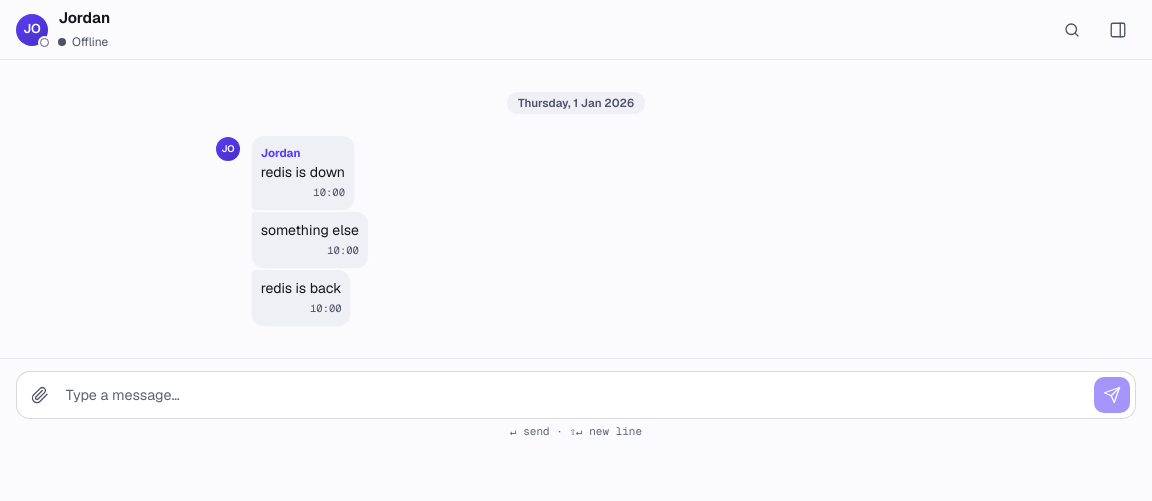
Test case: ConversationRoom — searching this conversation › shows the newest match first, ringed, with the words marked, and keeps the caret in the field
Step 1. Click the button named "Search this conversation" → point(1072, 30), box [1054,12,1090,48]
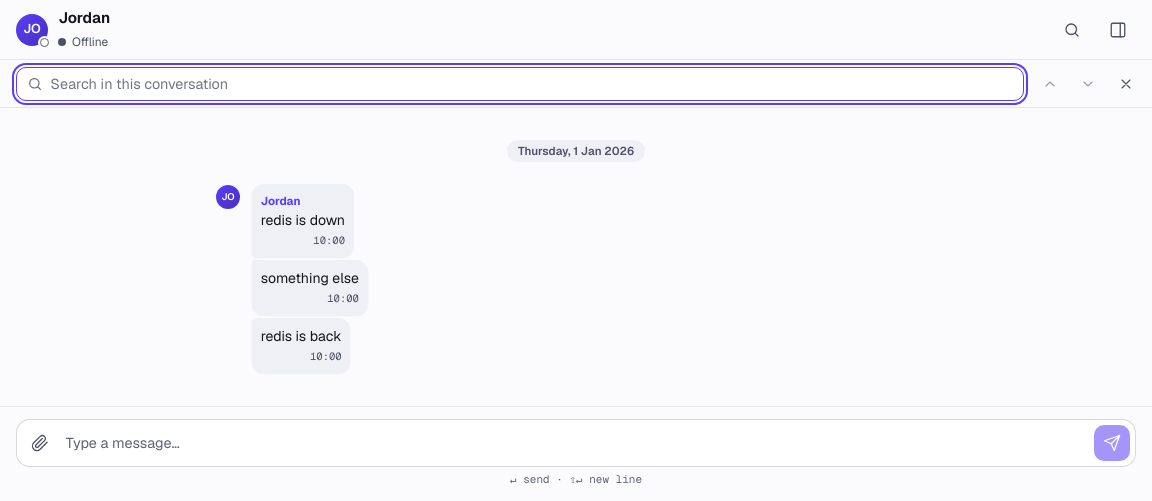
Step 2. Type "redis" into the search field labelled "Search in this conversation" → point(520, 84), box [16,66,1024,100]
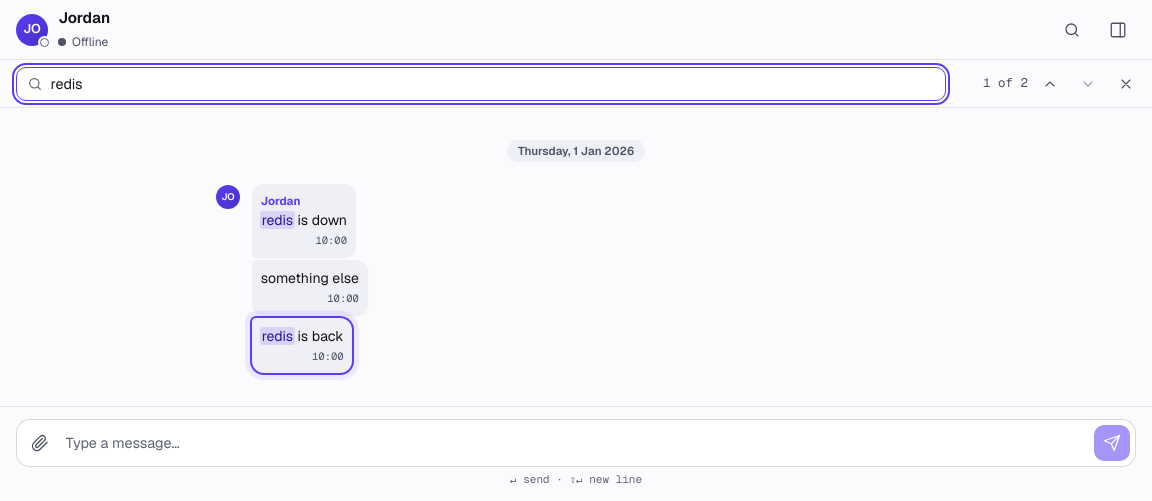
Expected: the text "1 of 2" is shown, [983,74,1028,91]
Expected: the text "redis" is shown 2 times, [260,211,295,229]; [260,327,295,345]
